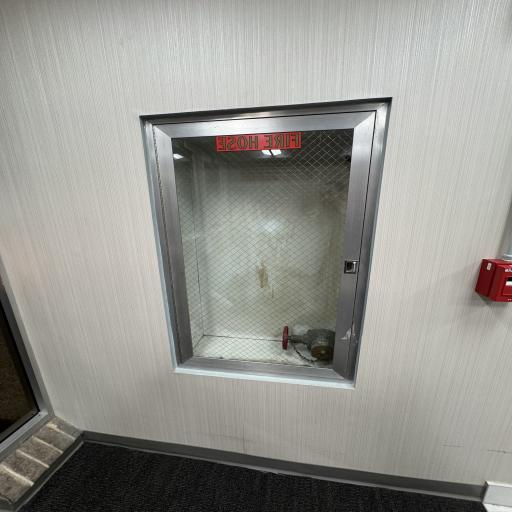fire alarm: (478, 254, 512, 307)
fire hose box: (138, 95, 398, 382)
